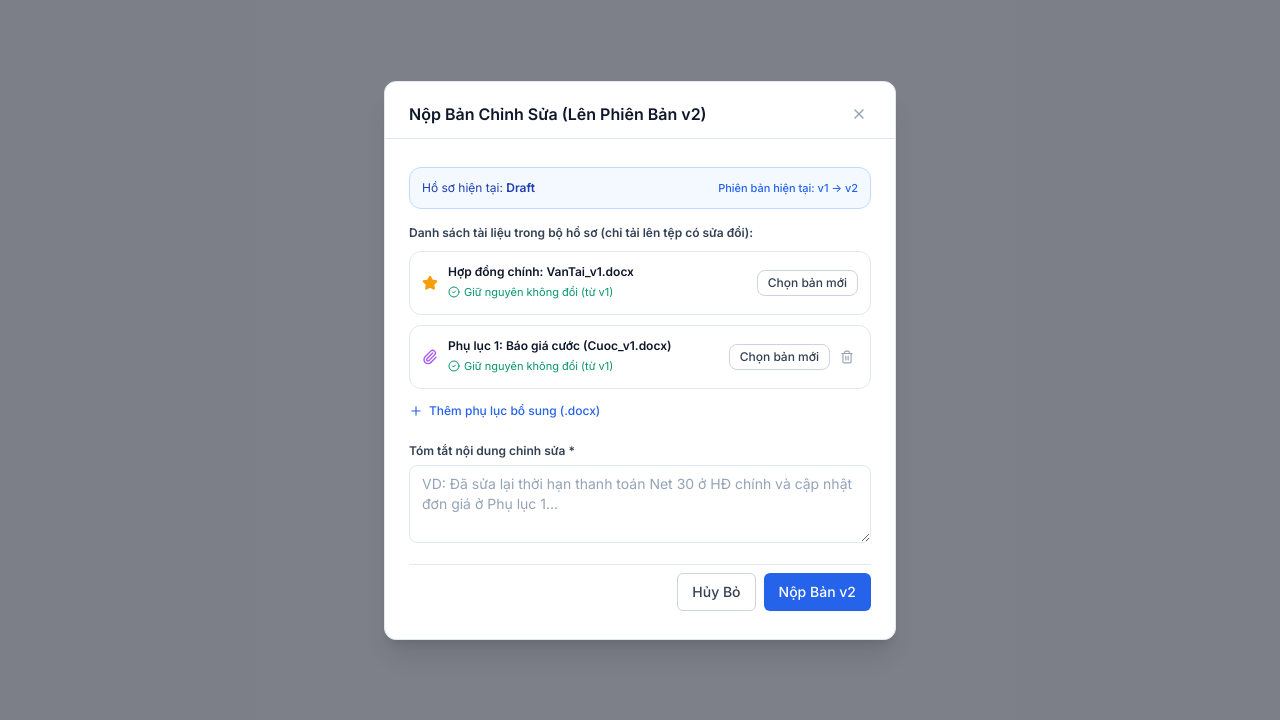
Test: UploadVersionModal Component › shows validation error when submitting without choosing any changes
The width and height of the screenshot is (1280, 720).
Click the button "Nộp Bản v2". click: (817, 592)
box: [764,572,871,610]
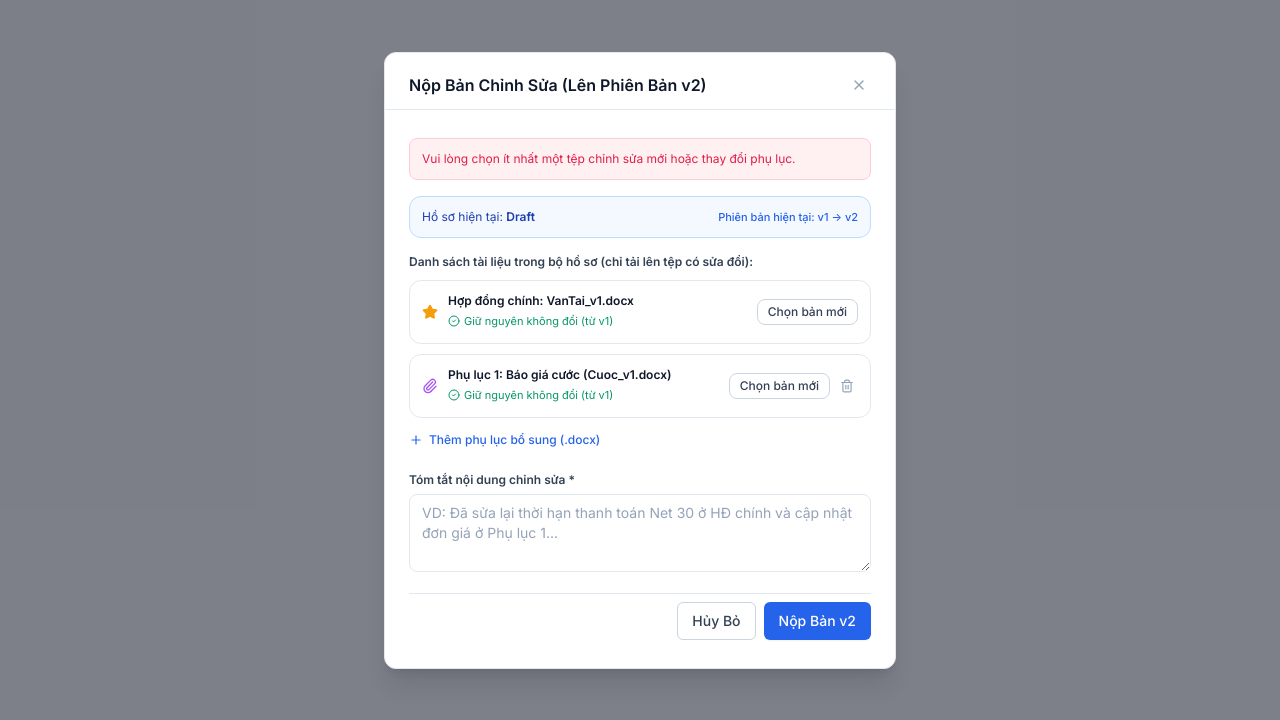
Check: the text "Vui lòng chọn ít nhất một tệp chỉnh sửa mới hoặc thay đổi phụ lục." is shown, box [409,138,871,180]
